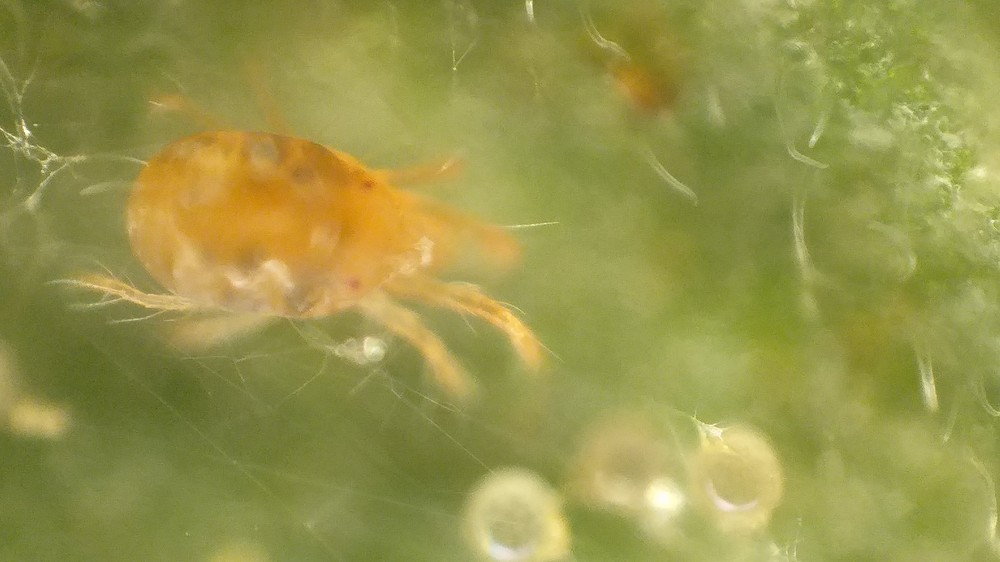Aracnido Rojo: (87, 80, 579, 407)
